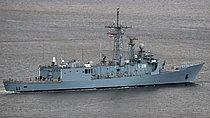MIL_Ship: (2, 21, 205, 92)
